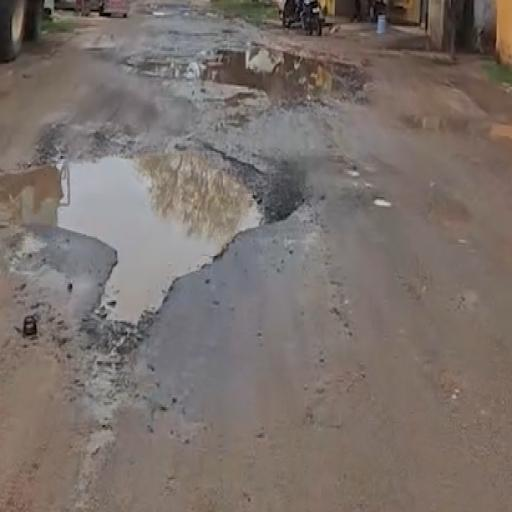pothole: (16, 96, 335, 382), (178, 15, 375, 144)
